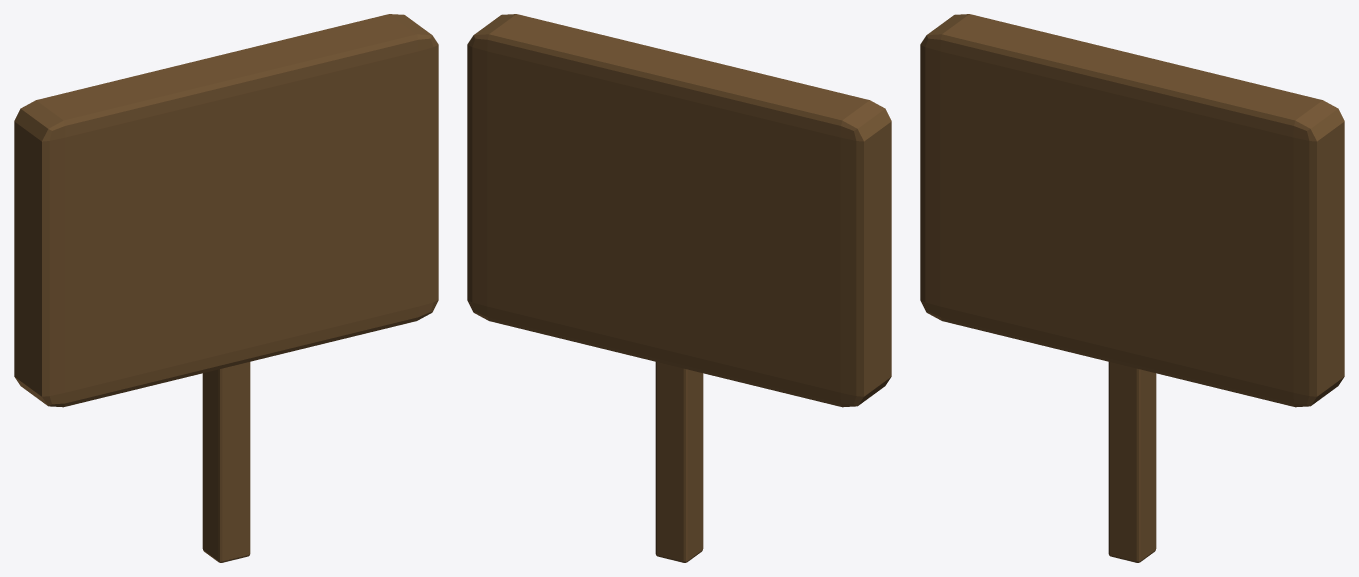
Rendered from Sign_board.glb.
3 renders of one model, left to right at view 1: azimuth 30°, elevation 25°; view 2: azimuth 150°, elevation 25°; view 3: azimuth 330°, elevation 25°, orthographic.
Parts seen in each view (by area): view 1: Border; view 2: Border; view 3: Border.
Boxes of the visible parts, x1=… form: Border: x1=14, y1=14, x2=438, y2=562; Border: x1=467, y1=14, x2=891, y2=562; Border: x1=920, y1=14, x2=1344, y2=562.
Bounding box in the file's own units: 2 × 2.34 × 0.2722.
